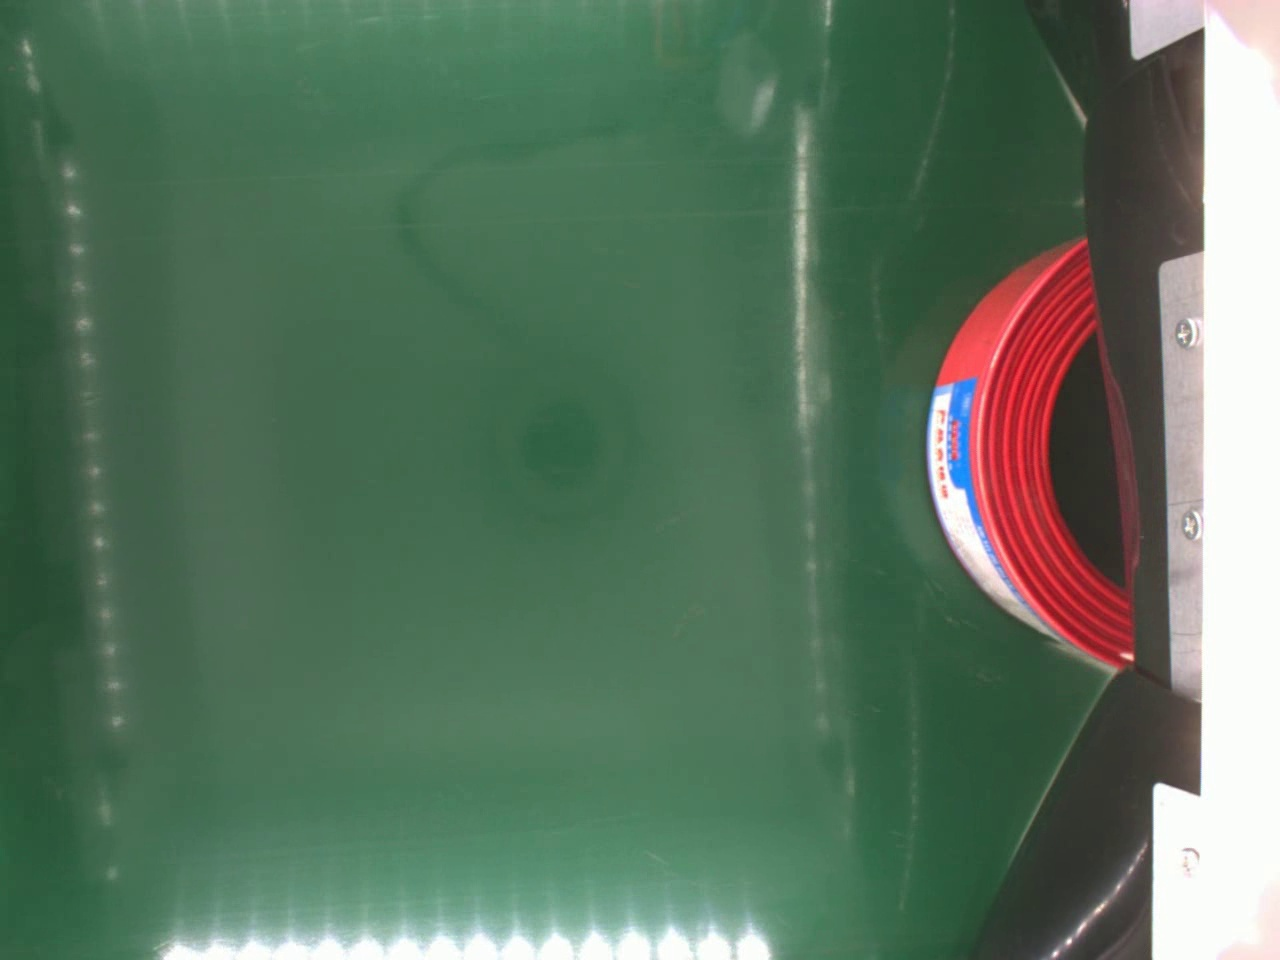red: (926, 233, 1138, 671)
